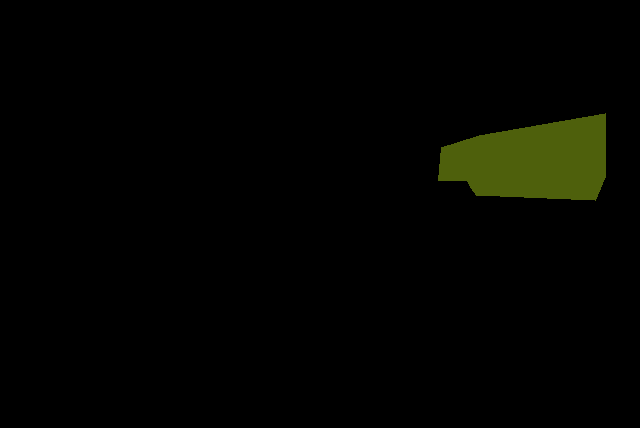Train: (438, 113, 606, 200)
